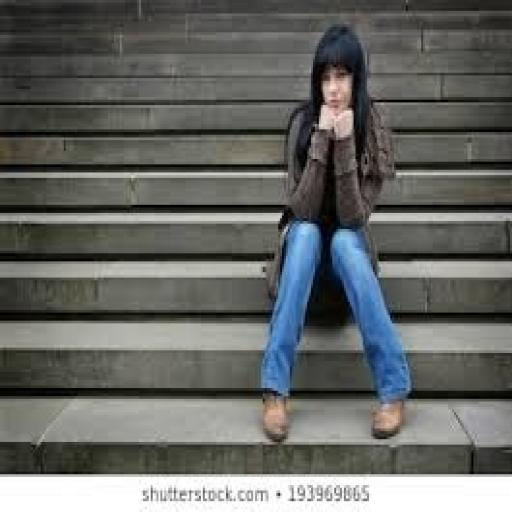sitting: (257, 21, 413, 442)
